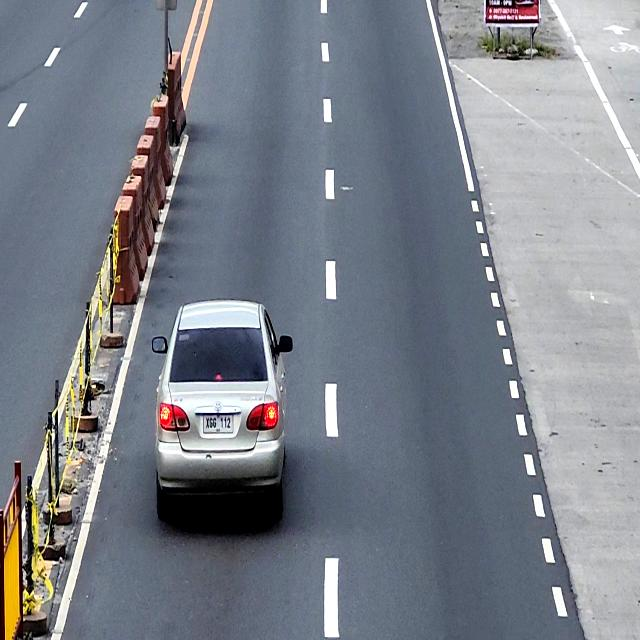Car: (152, 298, 292, 520)
License-Plate: (201, 411, 234, 435)
